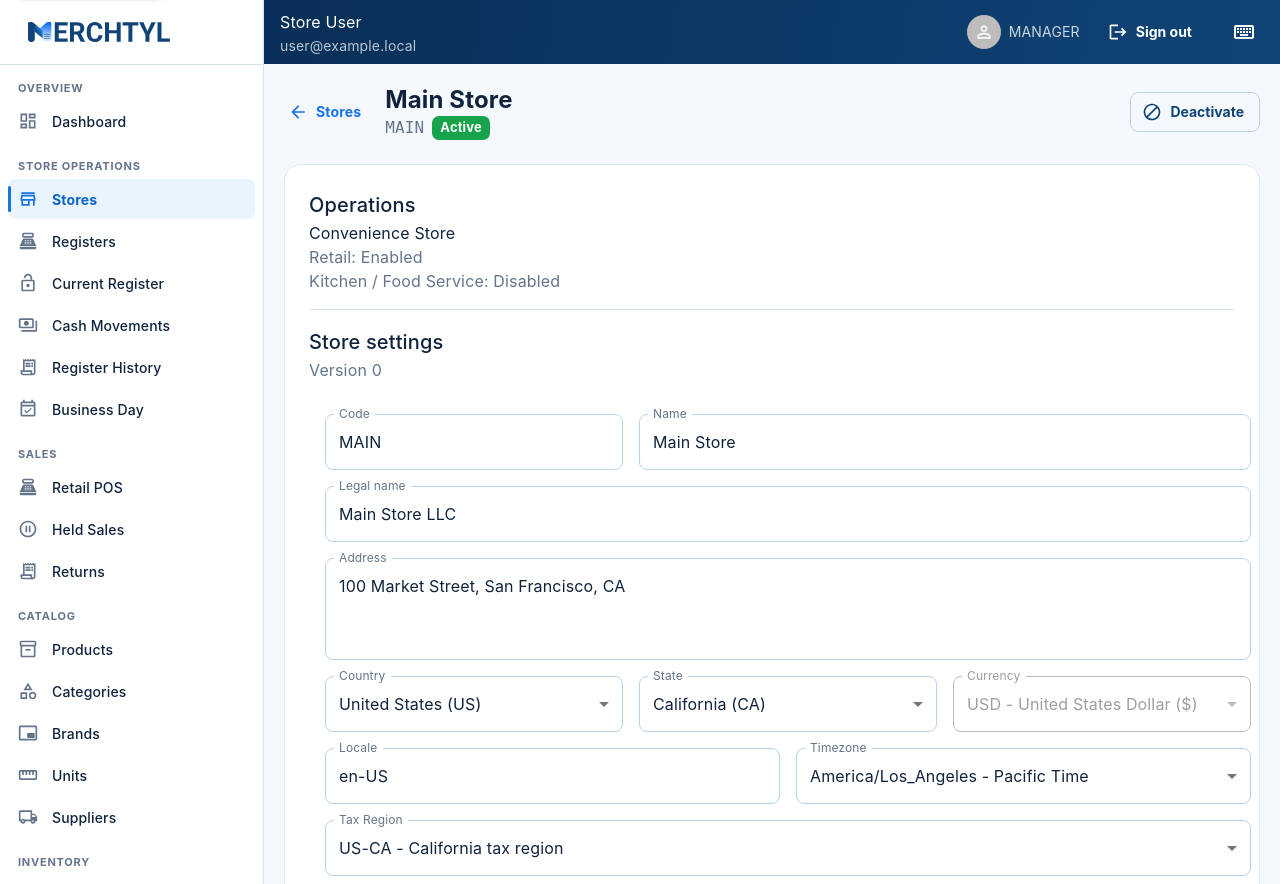
Test case: Store pages › validates, edits, and deactivates a store
Expected: the heading "Main Store" is shown, [385,85,513,114]
Clear the field labelled "Name": (945,442) [639,414,1251,470]
(page scrolled)
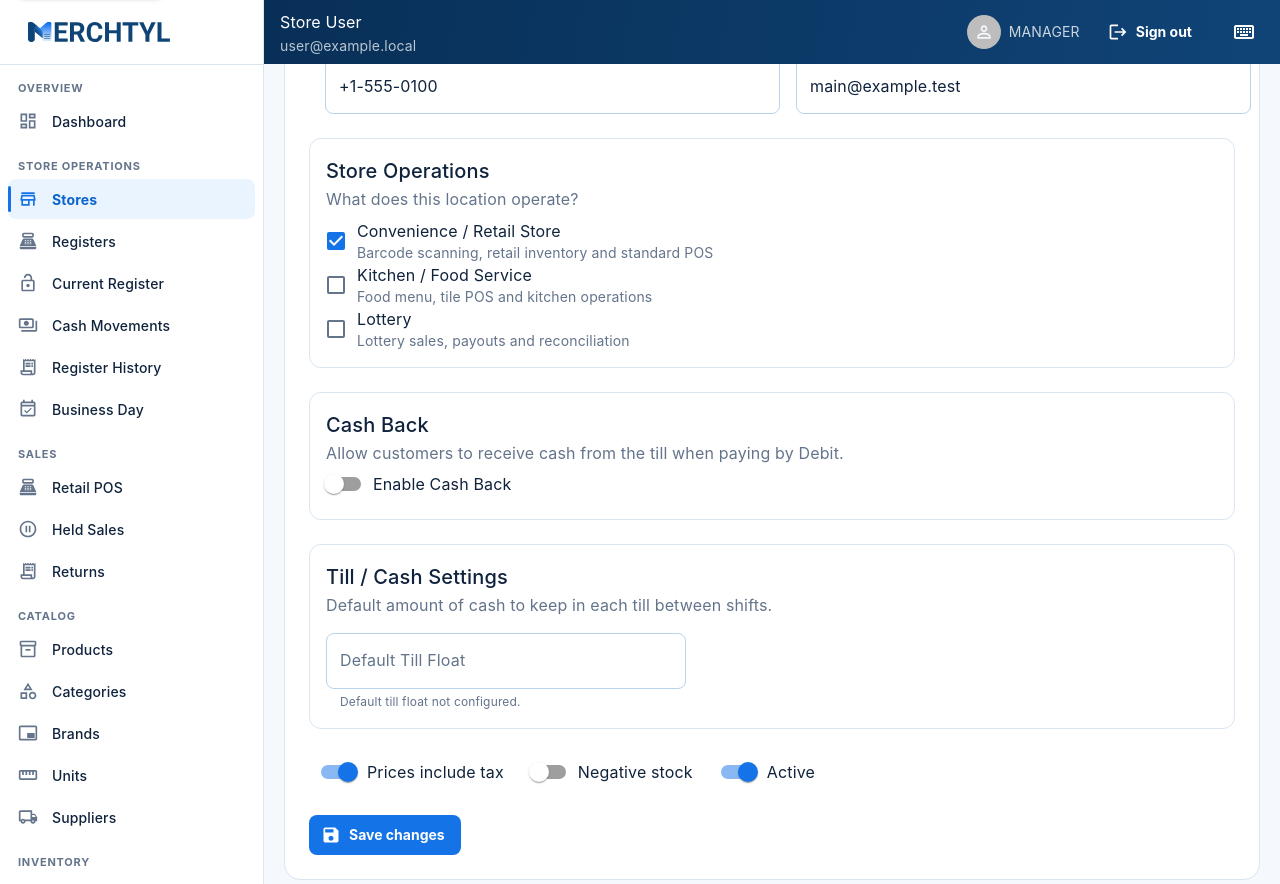
Click the button "Save changes": (385,835) [309,815,461,855]
(page scrolled)
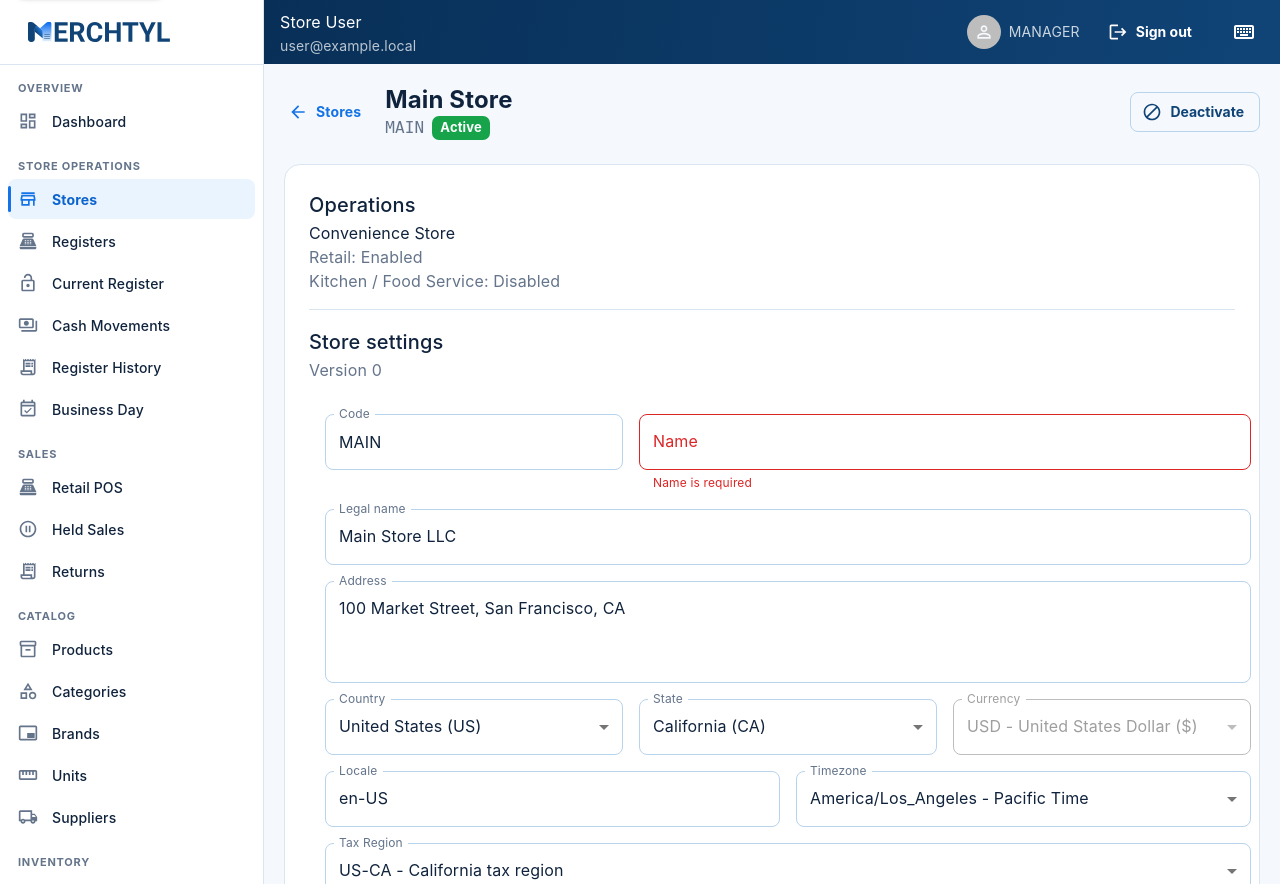
Expected: the text "Name is required" is shown, [653,475,752,490]
In the field labelled "Name": (945,442) [639,414,1251,470], type "Updated Store"
(page scrolled)
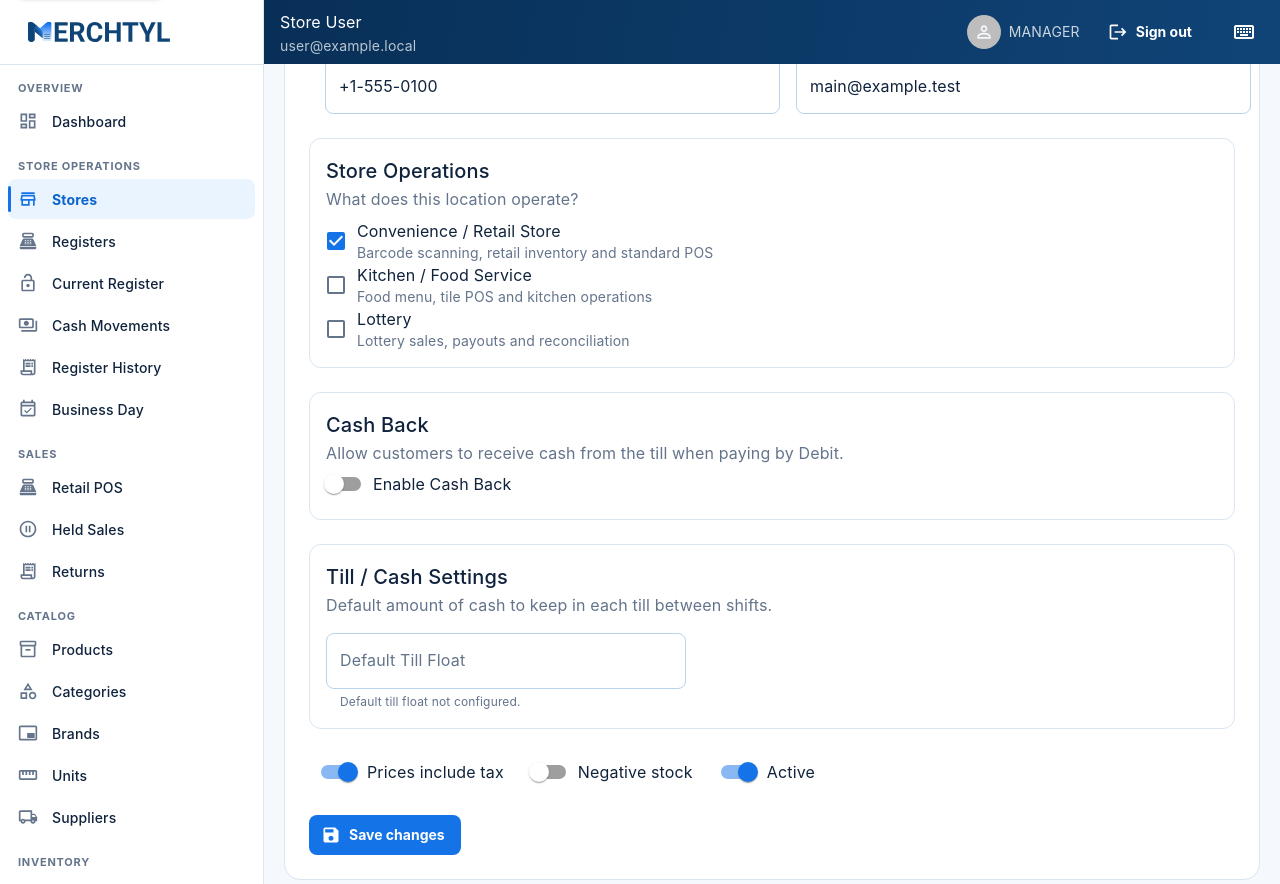
Click the button "Save changes": (385,835) [309,815,461,855]
(page scrolled)
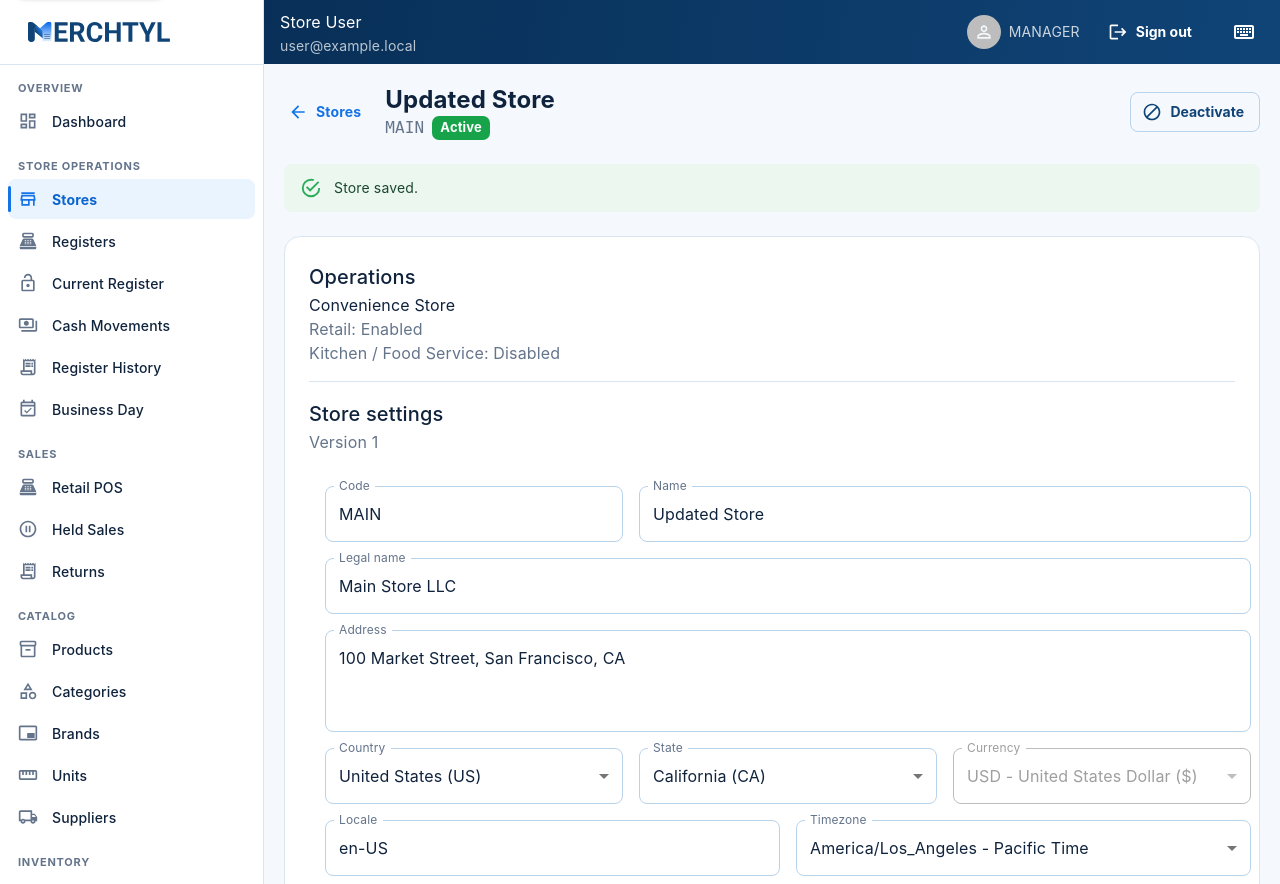
Expected: the text "Store saved." is shown, [334,179,418,196]
Expected: the heading "Updated Store" is shown, [385,85,555,114]
Click the button "Deactivate": (1195,112) [1130,92,1260,132]
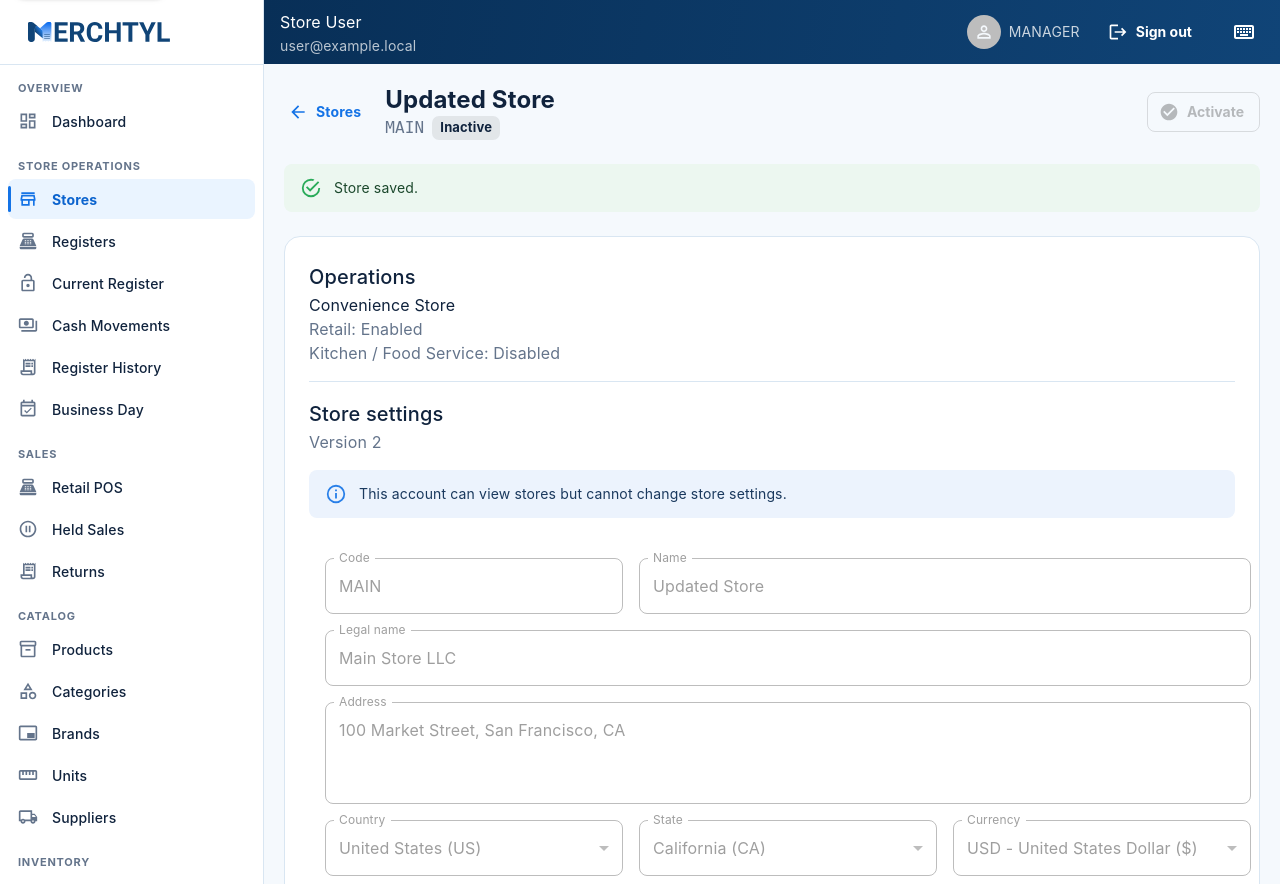
Expected: the text "Inactive" is shown, [440,119,492,135]
